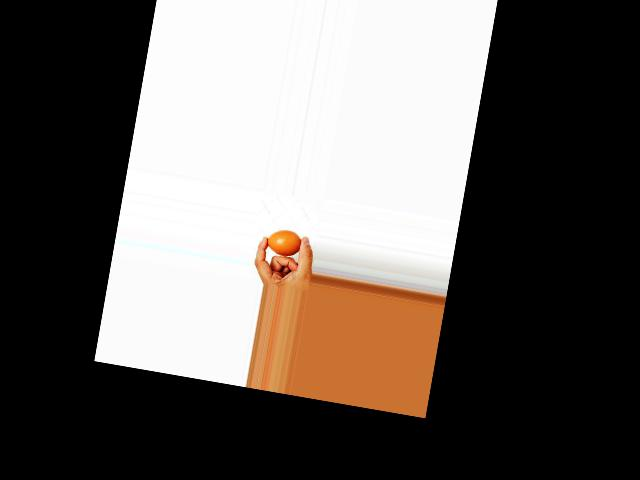egg: (265, 226, 303, 258)
